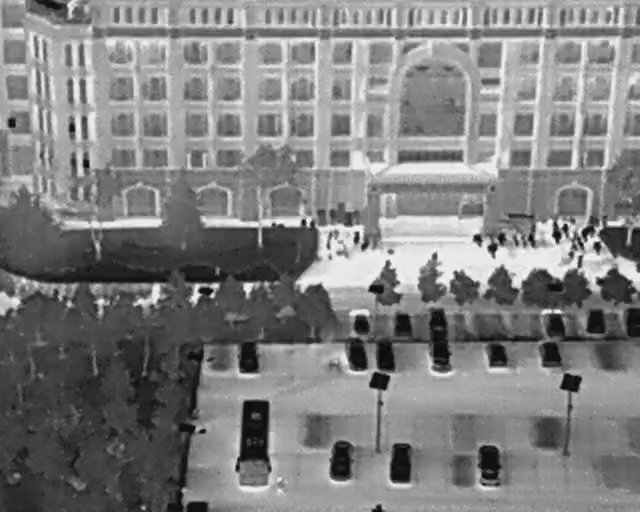Bicycle: (547, 220, 565, 247), (470, 230, 487, 251), (332, 245, 350, 262), (579, 224, 597, 241), (558, 221, 573, 241), (357, 235, 373, 253), (564, 241, 578, 261), (573, 234, 588, 251), (518, 231, 530, 250), (485, 243, 498, 260), (510, 231, 521, 249), (526, 232, 537, 249), (592, 241, 603, 257), (588, 215, 601, 228), (497, 230, 506, 246), (575, 253, 584, 269), (601, 214, 608, 229), (326, 232, 332, 248), (333, 228, 341, 240), (353, 231, 360, 244), (309, 217, 316, 229), (301, 216, 306, 228)
Car: (386, 441, 415, 489), (328, 437, 356, 484), (476, 442, 504, 489), (343, 334, 371, 374), (428, 337, 455, 377), (536, 338, 564, 373), (236, 341, 261, 375), (374, 337, 396, 374), (541, 311, 566, 342), (484, 341, 508, 369), (428, 307, 449, 337), (586, 308, 606, 335), (624, 307, 639, 340), (392, 311, 411, 337), (352, 311, 372, 335), (185, 498, 209, 510)
OtherVehicle: (233, 397, 273, 489)
